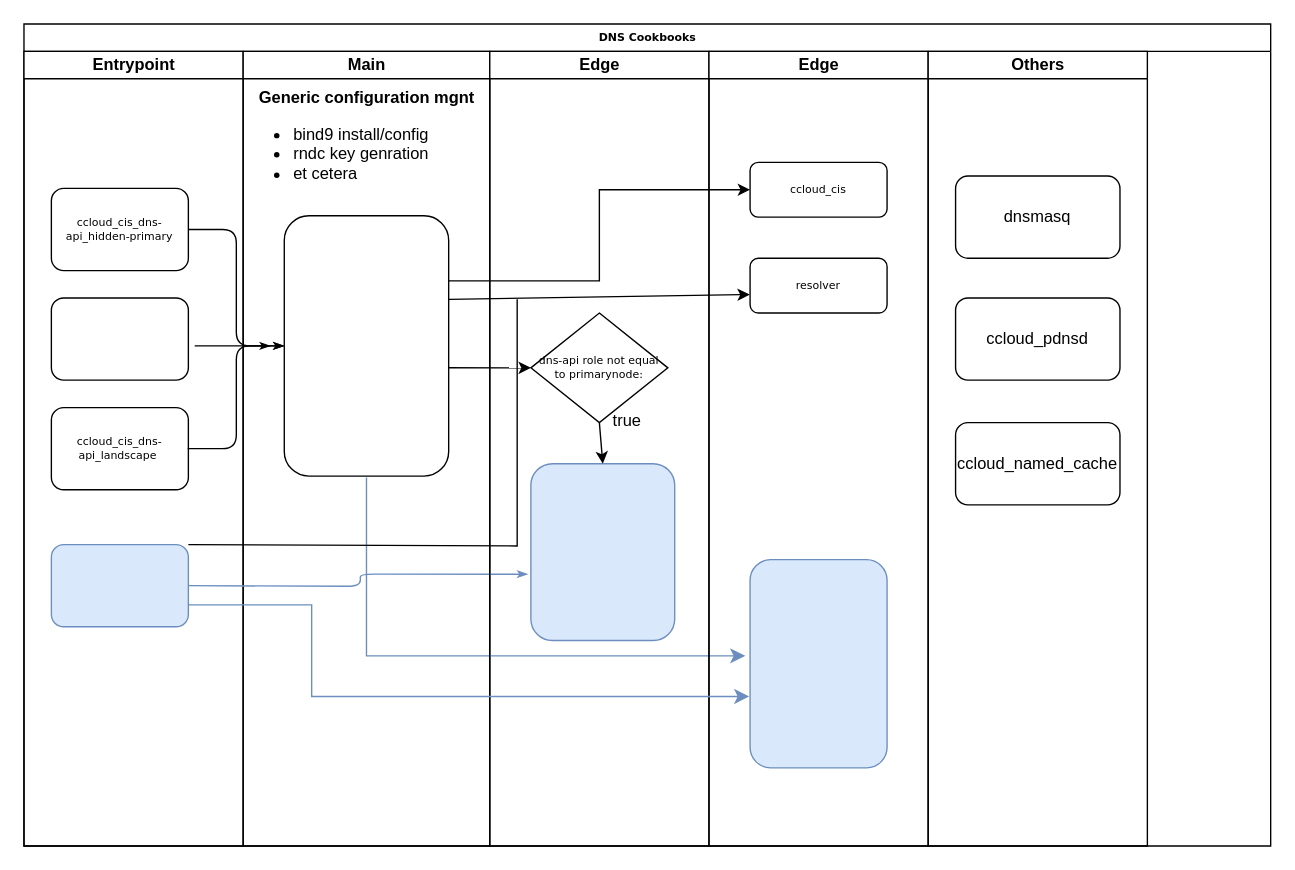
Image size: 1295x870. Some labels were removed from this diagram. Here are the shapes that lost their labels. From the top down, the centre of each, then its label:
(x=119, y=338): ccloud_cis_dns-api_hidden-secondary
(x=366, y=345): ccloud_cis_dns-api
(x=602, y=551): ccloud_keepalived
(x=119, y=585): ccloud_cishsp1_ multidc_dns
(x=818, y=663): ccloud_cishsp1 _patching
